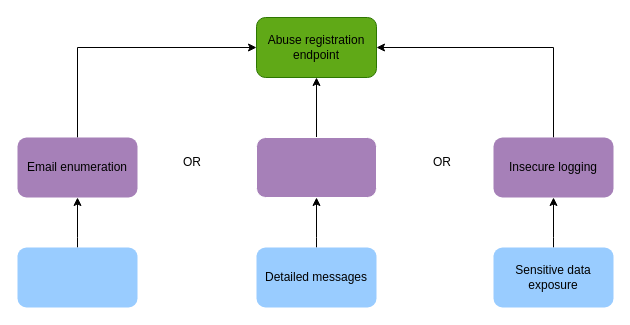
Image size: 630x325. Some labels were removed from this diagram. The shapes that lost their labels are listed below. From the top down, each one's centre as x and y in pixels, then its label:
At point 316,167: "Verbose errors".
At point 77,277: "Register with victim's email".
